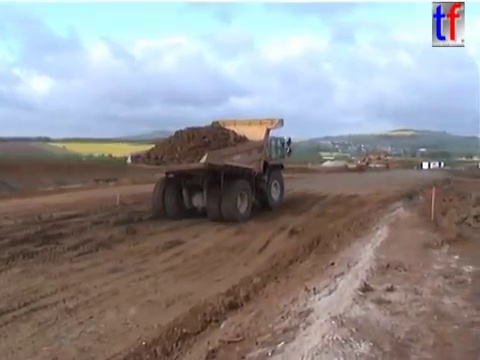truck: (124, 116, 292, 221)
